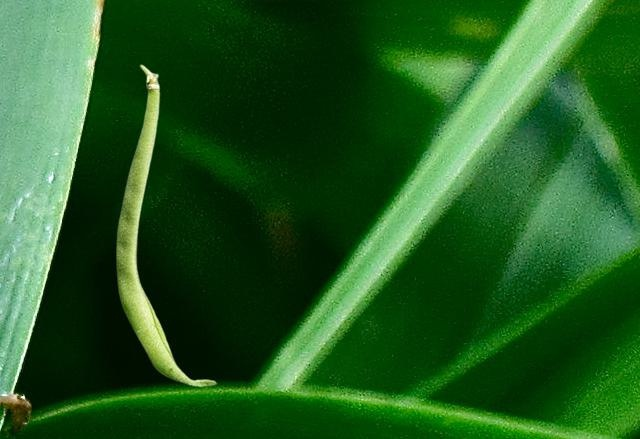french_bean: (116, 64, 216, 386)
